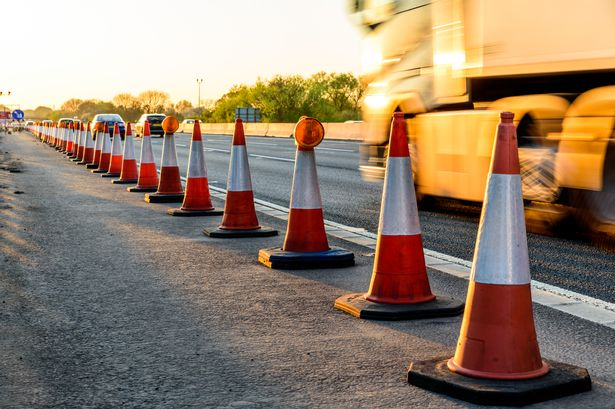cone: (406, 111, 591, 406), (333, 112, 471, 321), (254, 115, 358, 270), (205, 116, 281, 239), (166, 119, 226, 217), (146, 115, 191, 203), (129, 120, 163, 191), (115, 123, 141, 187), (97, 119, 111, 177), (109, 120, 123, 178), (65, 119, 75, 156), (75, 123, 85, 160), (94, 126, 104, 163), (82, 123, 92, 160)
